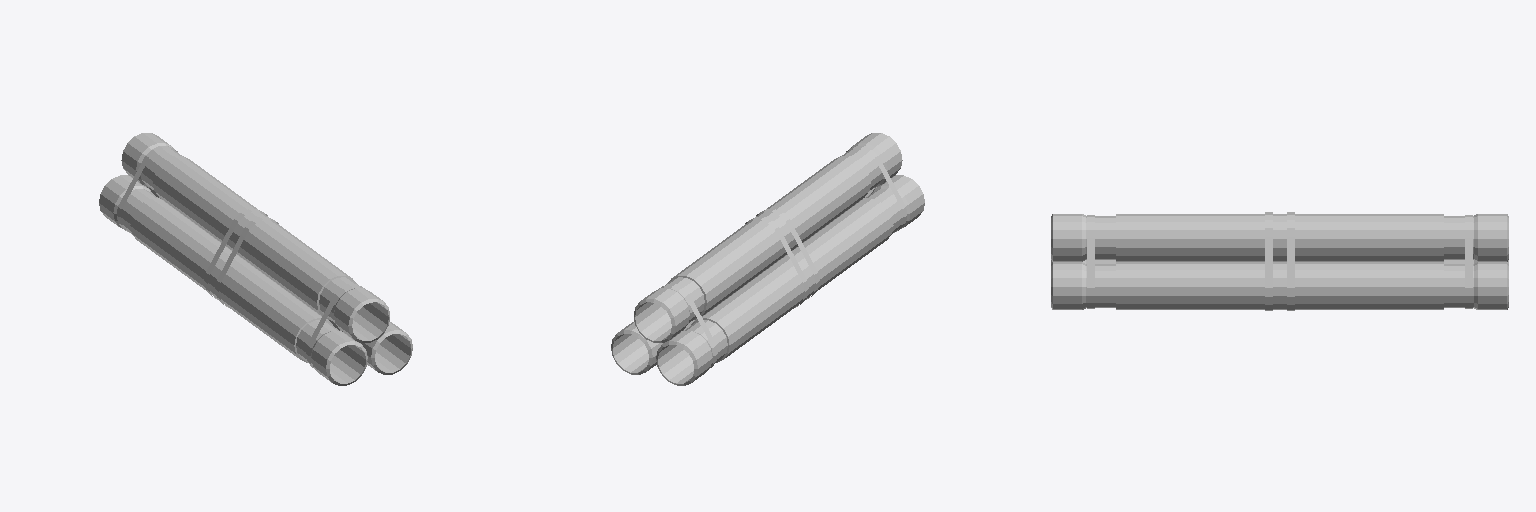
Rendered from Pipes.obj.
The picture shows the model from 3 angles: view 1: azimuth 30°, elevation 25°; view 2: azimuth 150°, elevation 25°; view 3: azimuth 270°, elevation 25°; orthographic projection.
Parts seen in each view (by area): view 1: Pipes_Cylinder.016; view 2: Pipes_Cylinder.016; view 3: Pipes_Cylinder.016.
Part boxes in pixels (x1,y1,x2,y2): Pipes_Cylinder.016: (99, 133, 412, 385); Pipes_Cylinder.016: (611, 133, 924, 385); Pipes_Cylinder.016: (1051, 212, 1508, 310).
Bounding box in the file's own units: 0.7482 × 0.6713 × 3.36.